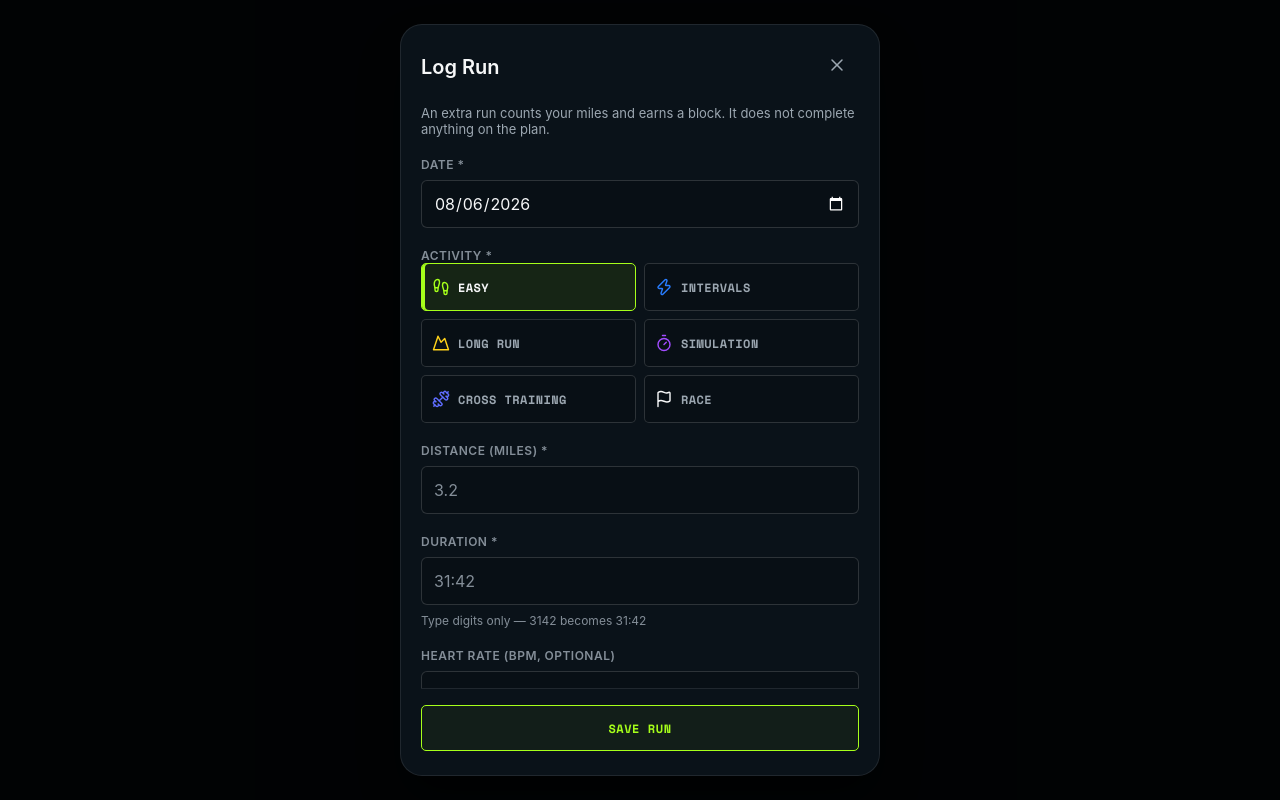
Test: CompleteRunSheet › refuses a run dated after today
The width and height of the screenshot is (1280, 800).
In the date field labelled "Date *": x=640, y=204 [421,180,859,228], type "2026-08-09"
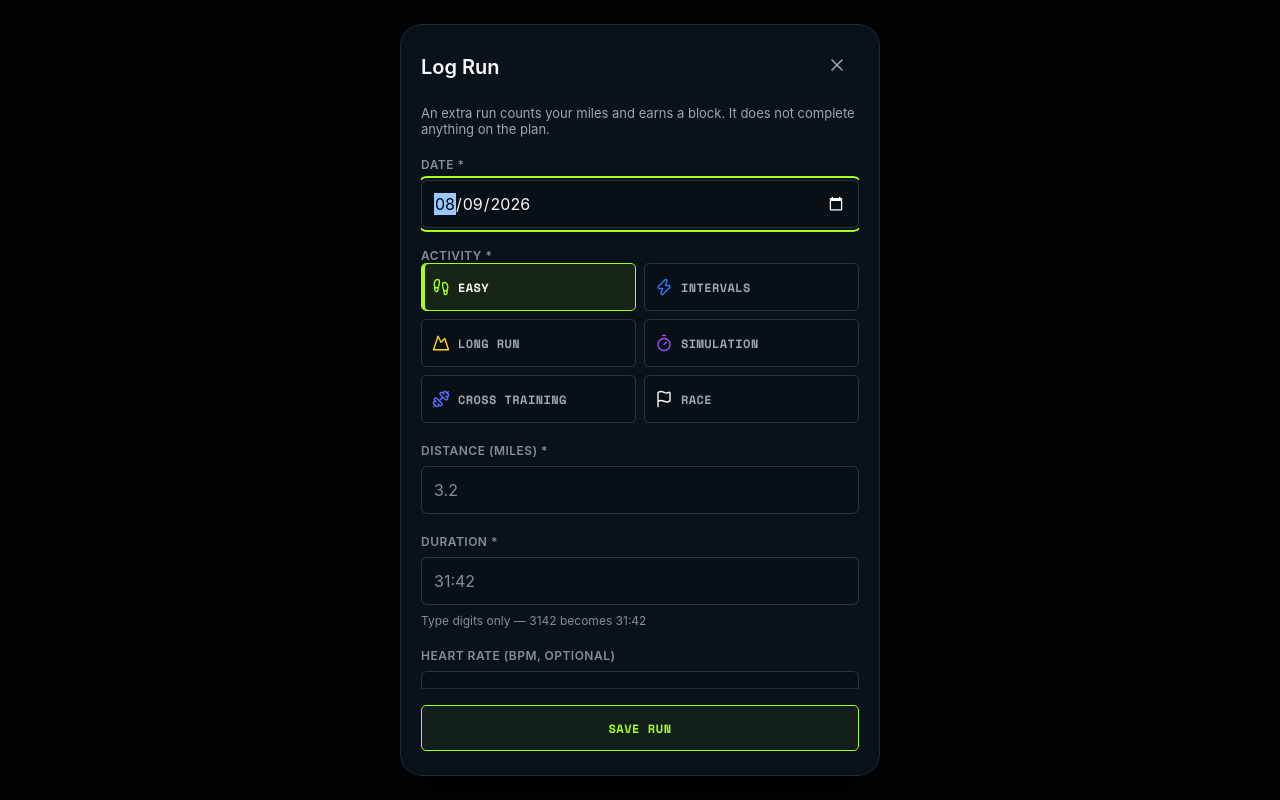
In the field labelled "Distance (miles) *": x=640, y=490 [421,466,859,514], type "3"
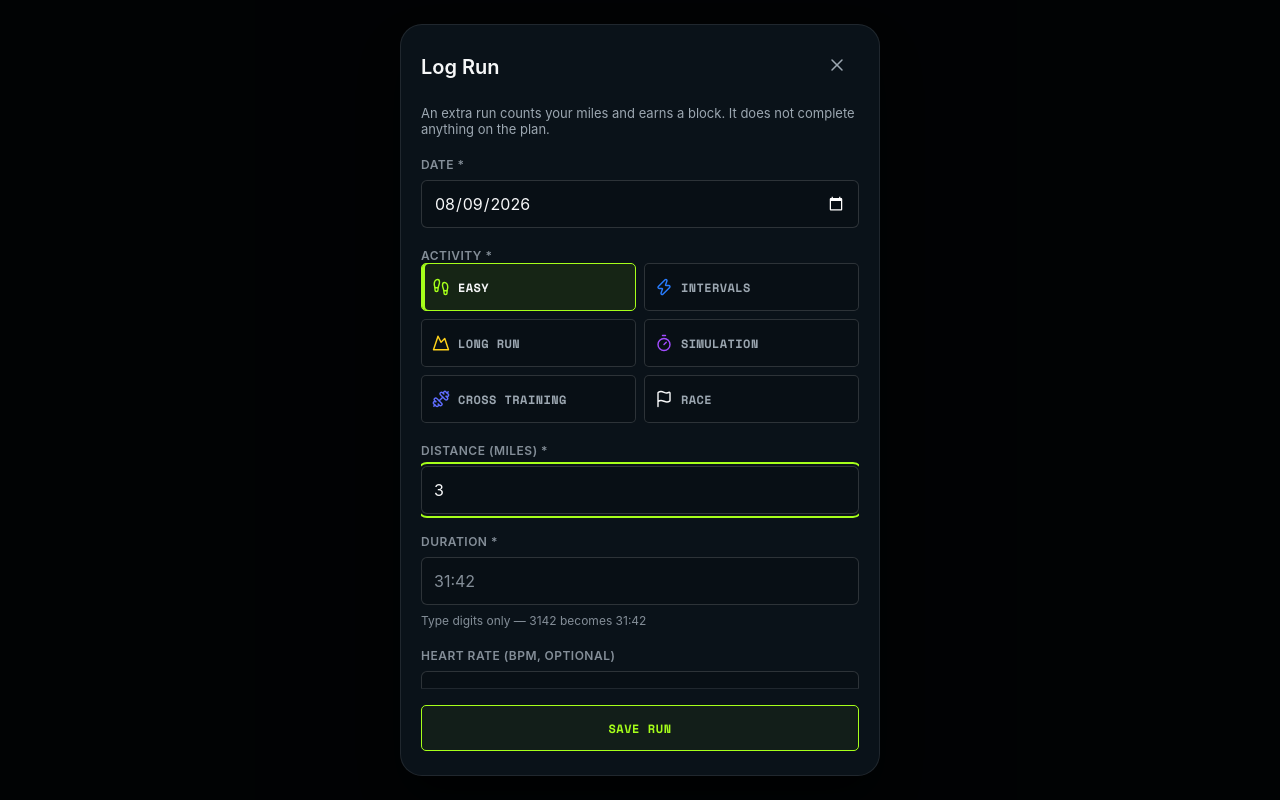
In the field labelled "Duration *": x=640, y=581 [421,557,859,605], type "3000"
(page scrolled)
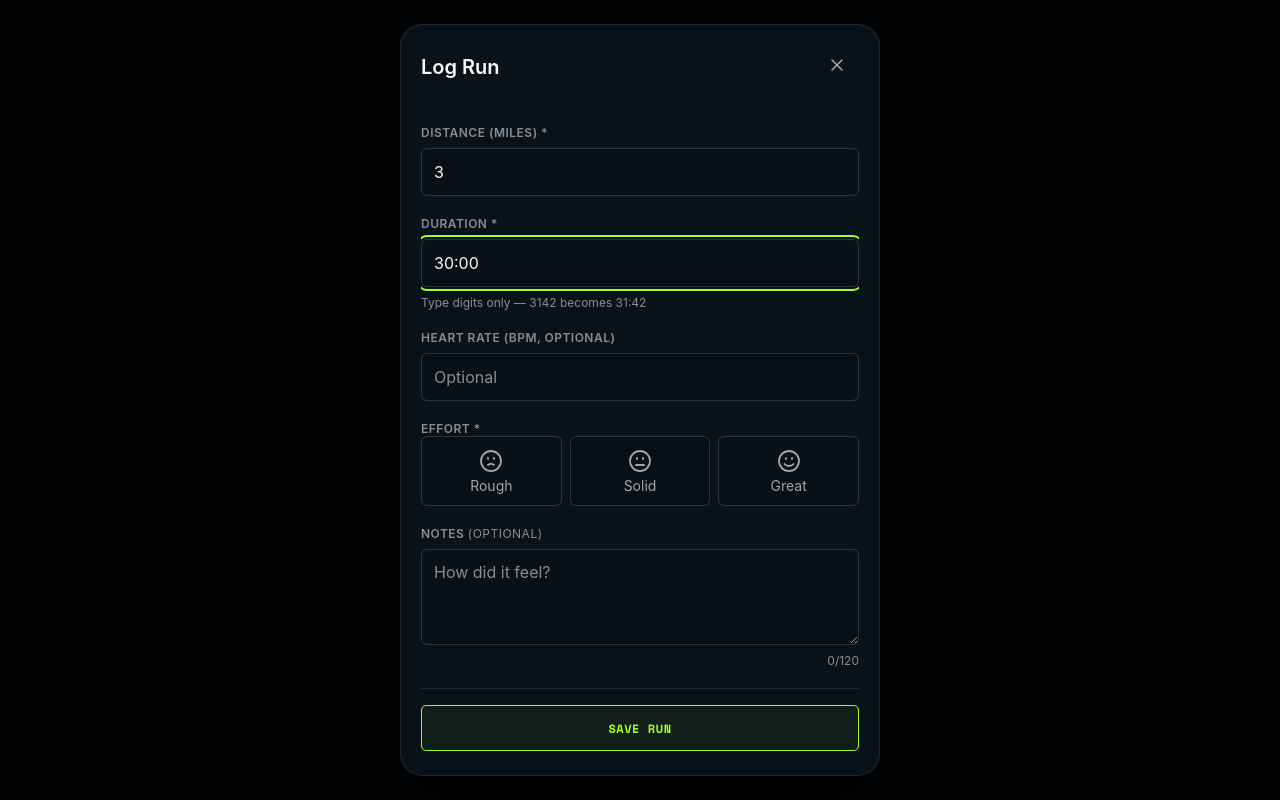
Click the button "Solid": x=640, y=471 [570,436,710,506]
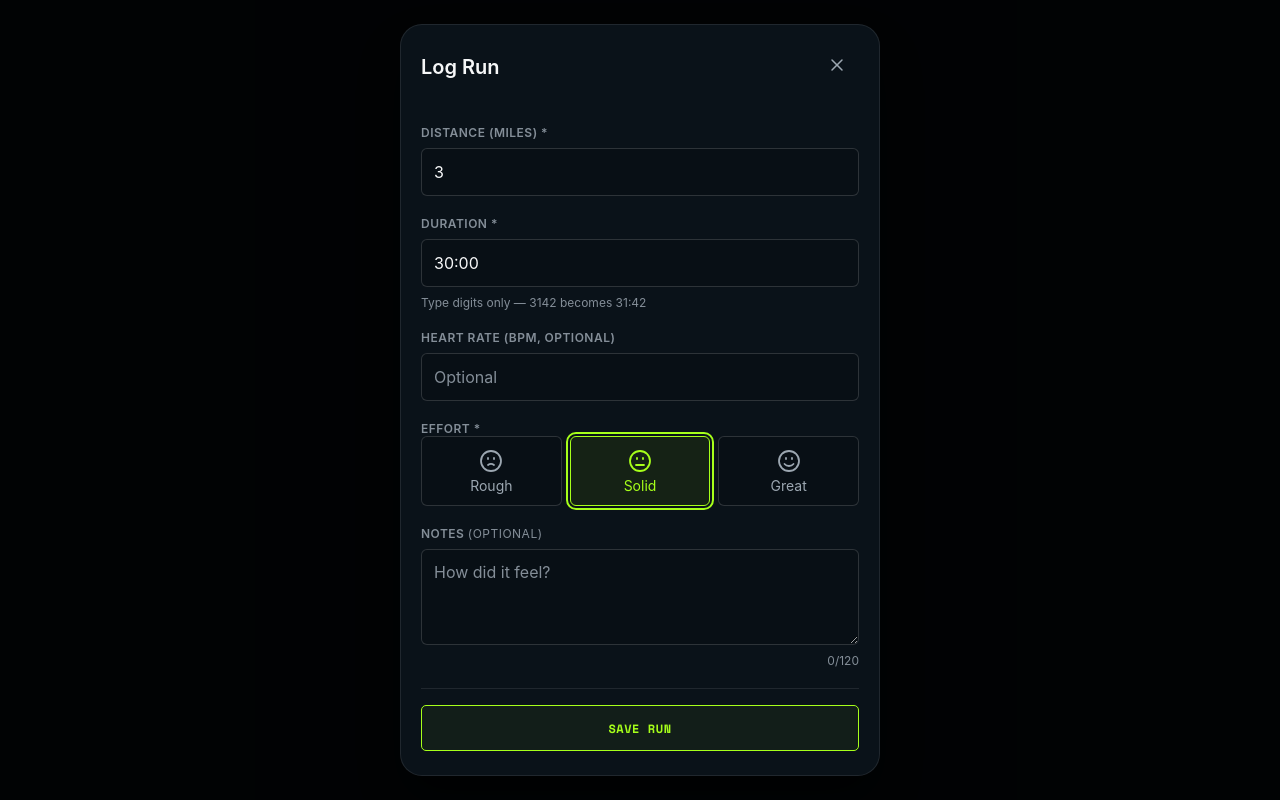
Click the button "Save Run": x=640, y=728 [421,705,859,751]
(page scrolled)
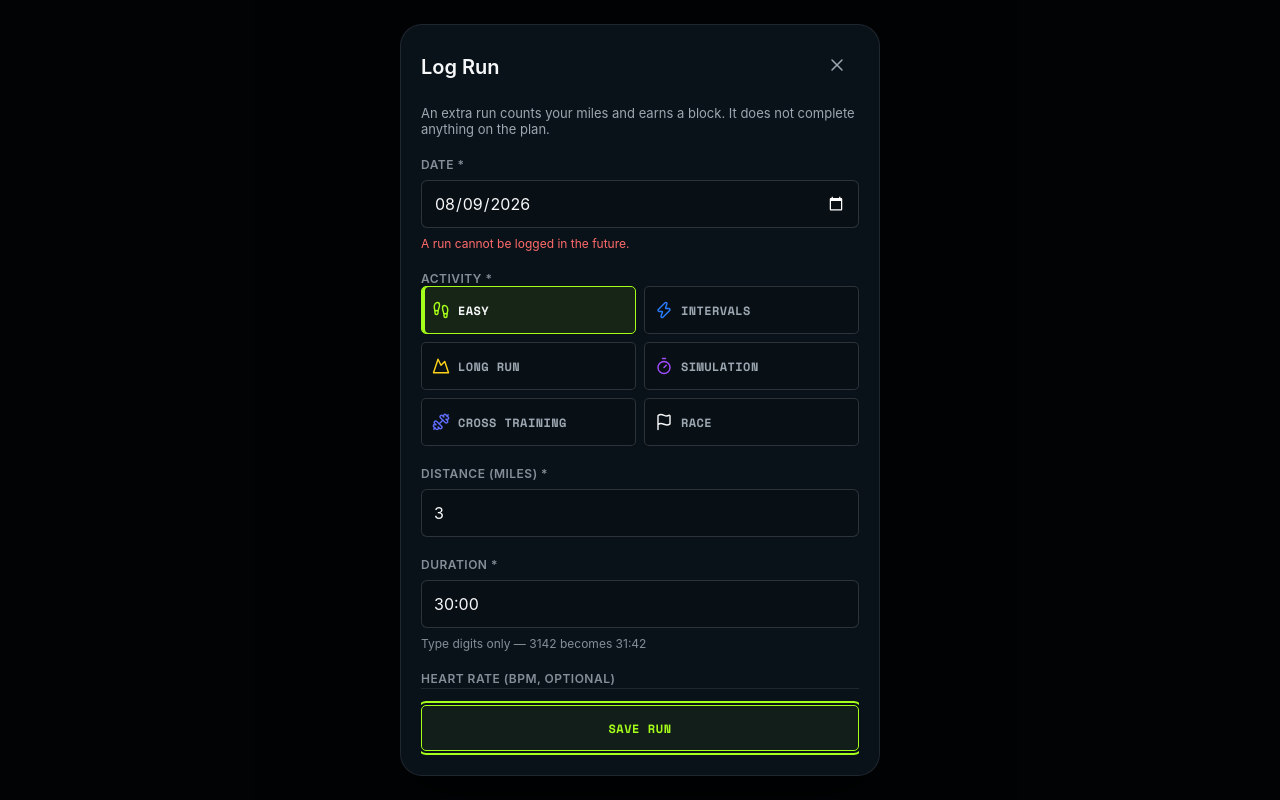
Expected: the text "A run cannot be logged in the future." is shown, [421,236,630,251]
